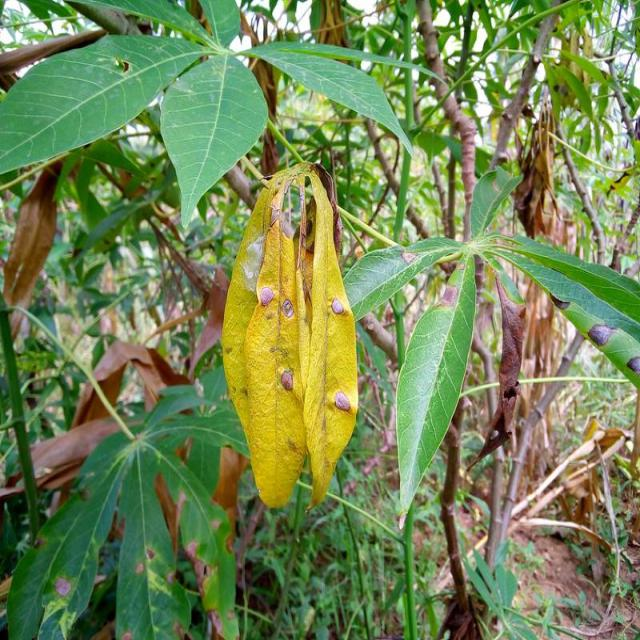cassava leaf: (220, 160, 359, 511), (0, 31, 205, 176), (394, 252, 477, 528), (158, 52, 268, 230)
